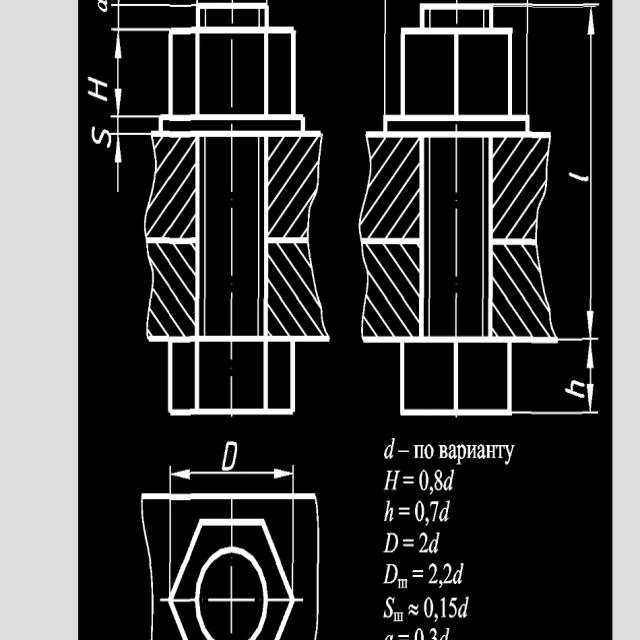marking_line: (583, 11, 594, 338), (172, 467, 294, 484), (108, 138, 126, 193), (113, 31, 124, 118), (585, 341, 596, 408)
numeric: (418, 594, 473, 621), (427, 563, 470, 590), (413, 499, 455, 524), (417, 469, 457, 495), (416, 531, 444, 556), (415, 627, 454, 640)
